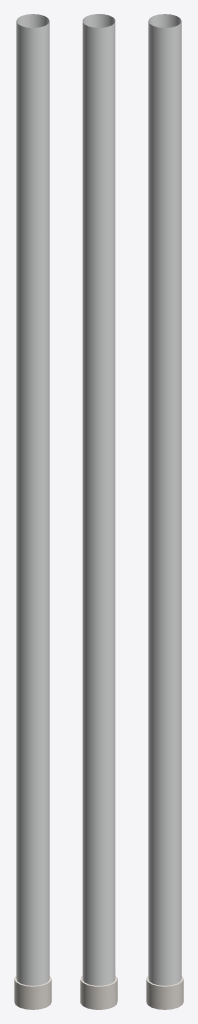
Rendered from conduit.fbx.
3 renders of one model, left to right at view 1: azimuth 90°, elevation 25°; view 2: azimuth 210°, elevation 25°; view 3: azimuth 270°, elevation 25°, orthographic.
Visible parts, largest first — view 1: conduit; view 2: conduit; view 3: conduit.
Boxes of the visible parts, x1,y1,x2,y2 form: conduit: (14, 14, 51, 1009); conduit: (80, 14, 117, 1009); conduit: (146, 14, 183, 1009).
Size of the model in its own units: 0.138 by 4 by 0.138.
